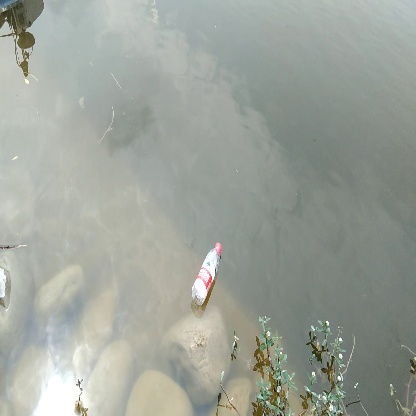bottle: (191, 241, 225, 309)
